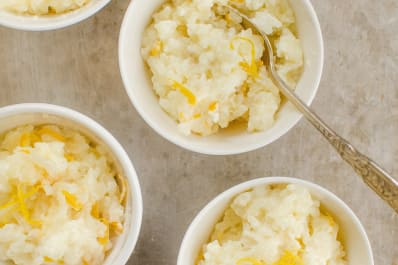plain rice: (154, 1, 290, 120), (1, 140, 100, 263), (221, 201, 327, 265)
